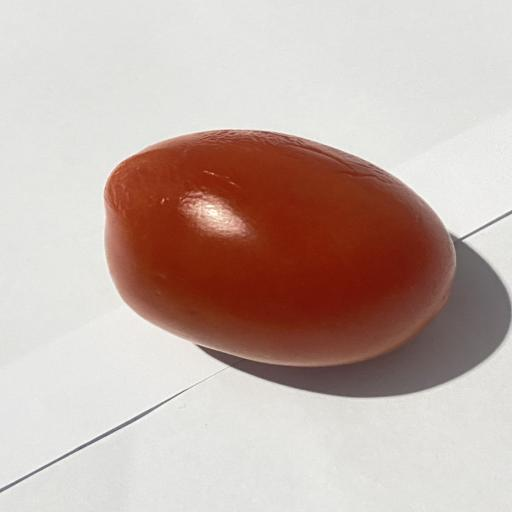spoiled: (104, 130, 455, 366)
